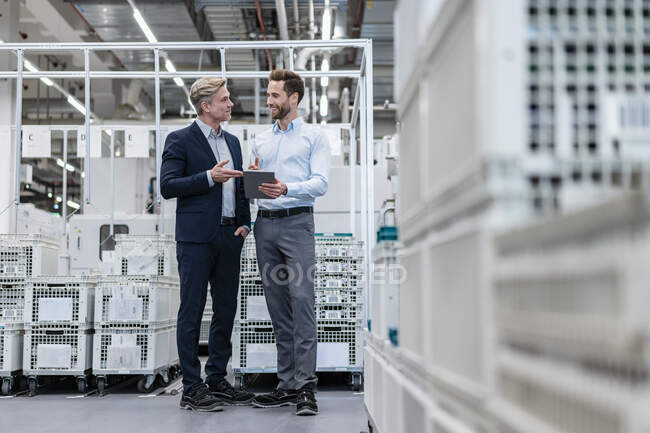person: (159, 78, 256, 410), (249, 68, 335, 413)
